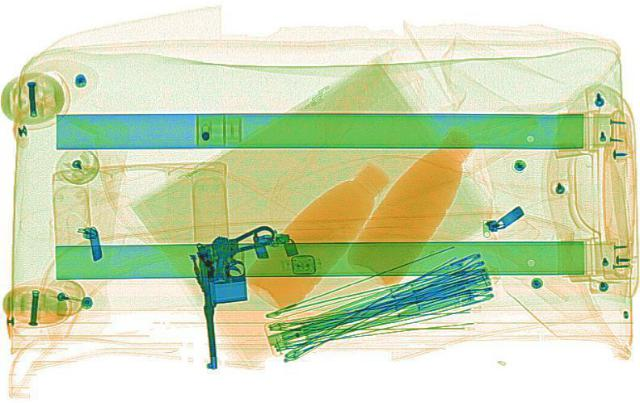Gun: (185, 223, 288, 367)
